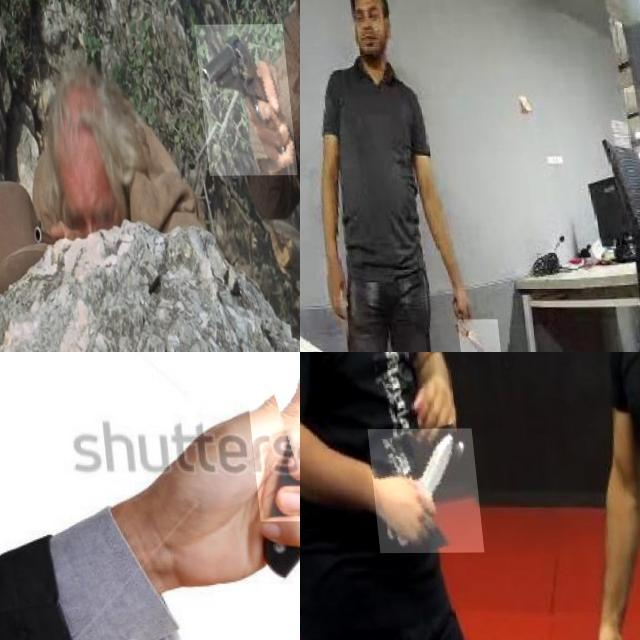-: (358, 428, 474, 554), (446, 319, 491, 352)
gun-knife-thesis - v11 Yolov5 augmented: (190, 25, 290, 176)
